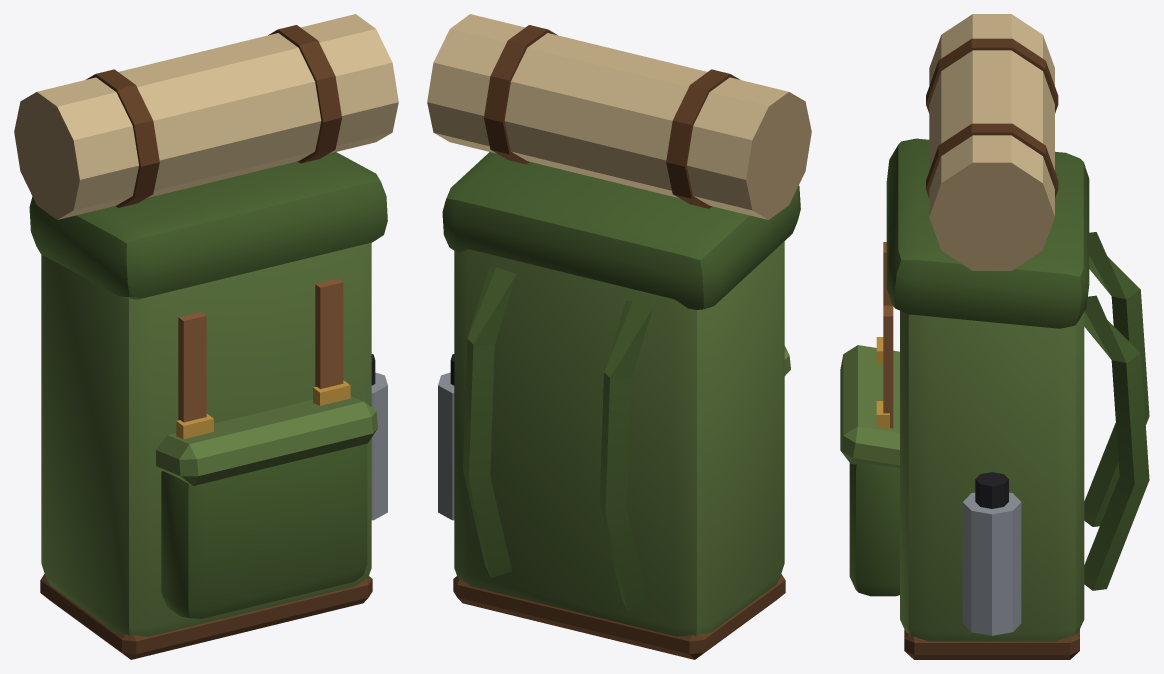
Rendered from SM_Backpack.glb.
3 renders of one model, left to right at view 1: azimuth 30°, elevation 25°; view 2: azimuth 150°, elevation 25°; view 3: azimuth 270°, elevation 25°, orthographic. The views are drawn at different scales.
Parts seen in each view (by area): view 1: SM_Backpack; view 2: SM_Backpack; view 3: SM_Backpack.
Boxes of the visible parts, x1,y1,x2,y2 form: SM_Backpack: (14, 14, 398, 659); SM_Backpack: (427, 14, 811, 659); SM_Backpack: (840, 14, 1149, 659).
Size of the model in its own units: 0.445 by 0.6851 by 0.3689.
Materials: 1 (1 with a texture image).
